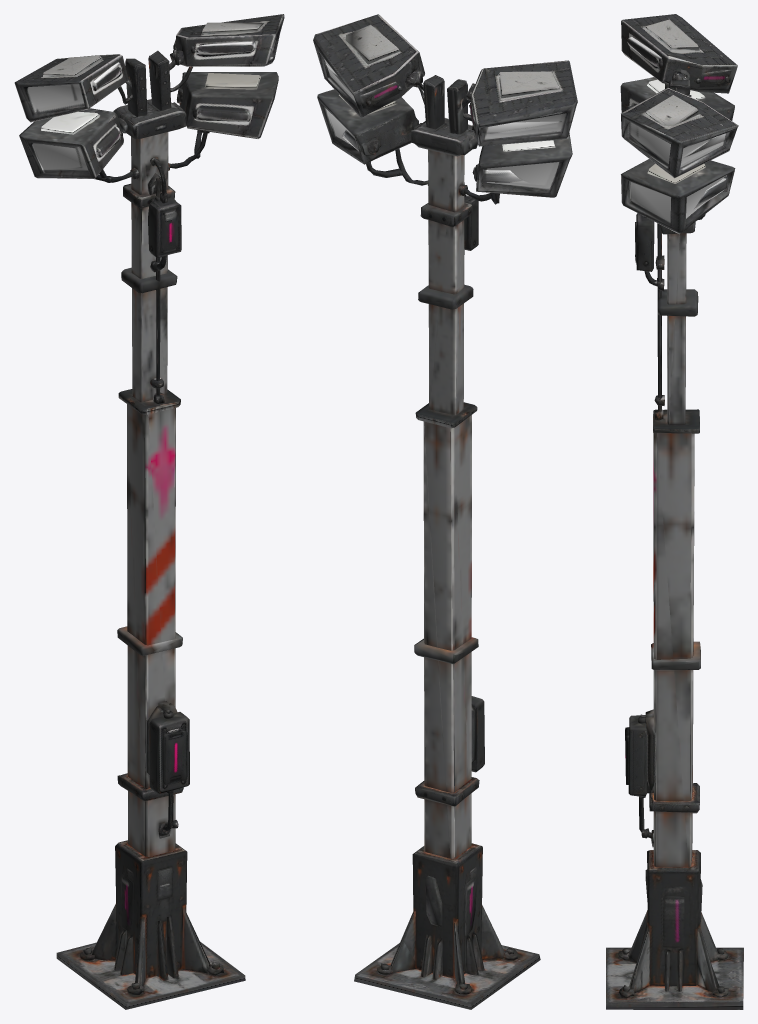
Rendered from floodlight_pole.glb.
3 views of the same model, side by side, from view 1: azimuth 30°, elevation 25°; view 2: azimuth 150°, elevation 25°; view 3: azimuth 270°, elevation 25° (orthographic).
Size of the model in its own units: 0.3008 by 1 by 0.1367.
Materials: 1 (1 with a texture image).
